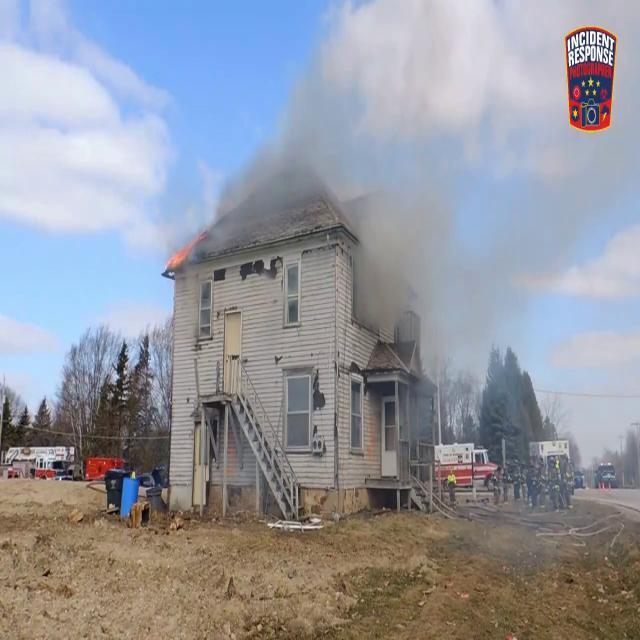Fire: (164, 237, 190, 275)
Smoke: (191, 0, 640, 255)
